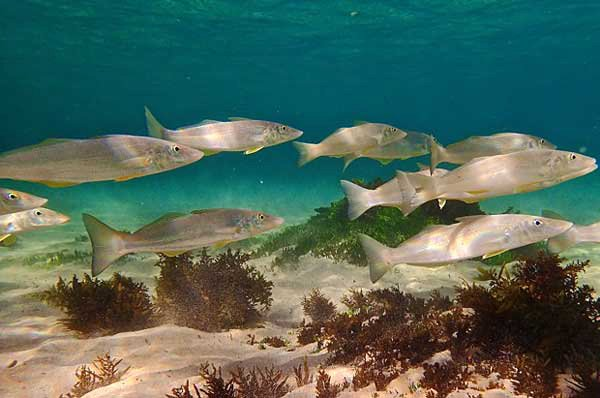kiss: (77, 196, 285, 272), (350, 212, 580, 278), (3, 127, 205, 194), (397, 146, 599, 208), (139, 100, 308, 159)
